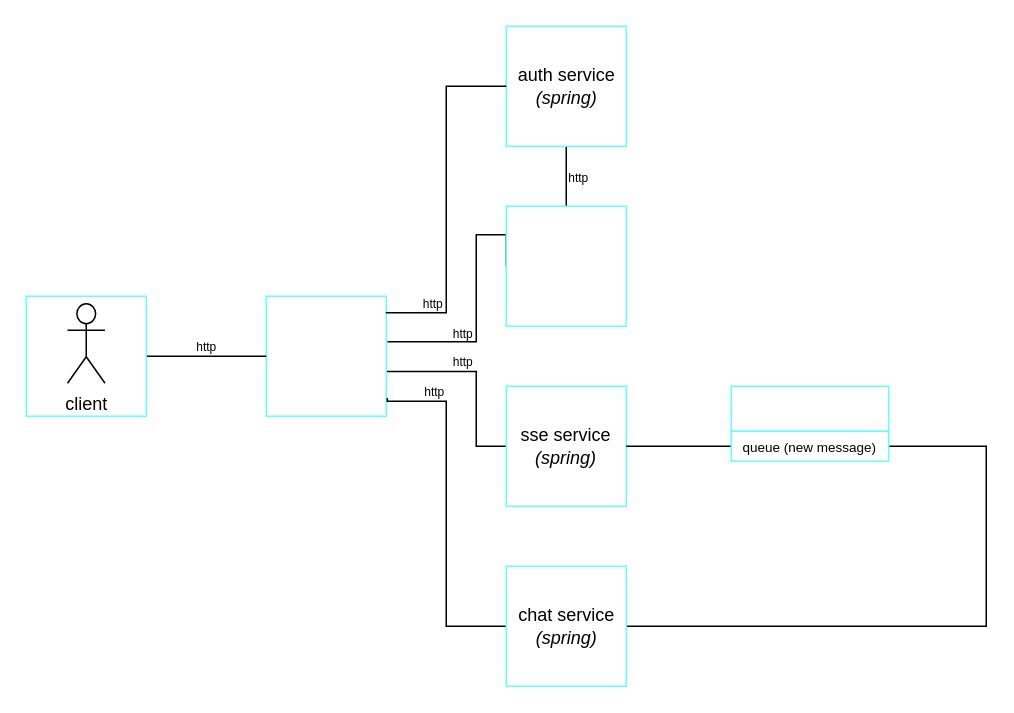
The diagram is 1014 pixels wide and 713 high, and some of its shapes have lost their labels. The shapes that lost their labels are listed below. From the top down, each one's box as (x1, y1, x2, y2) in pixels, then its label:
(505, 205, 626, 326): user management service (spring)
(265, 295, 386, 416): api gateway (spring)
(730, 385, 889, 431): messege queue (rabbitmq)
